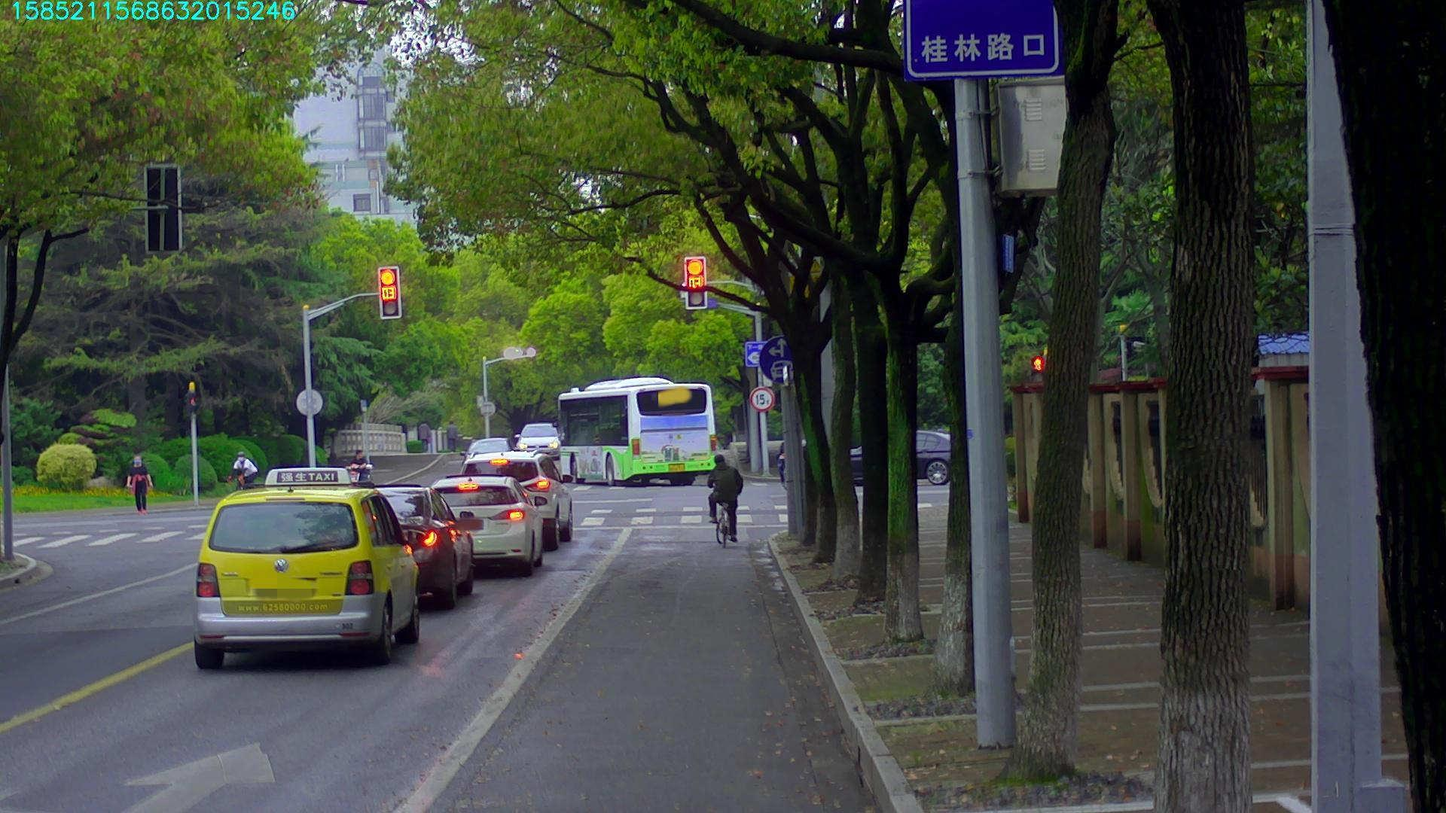red: (377, 267, 401, 317), (684, 257, 706, 307)
